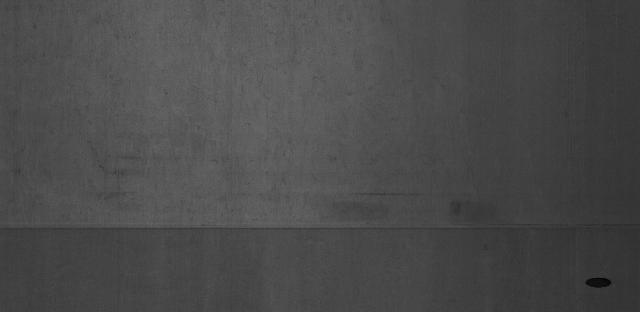punching_hole: (583, 273, 615, 290)
welding_line: (7, 212, 635, 241)
